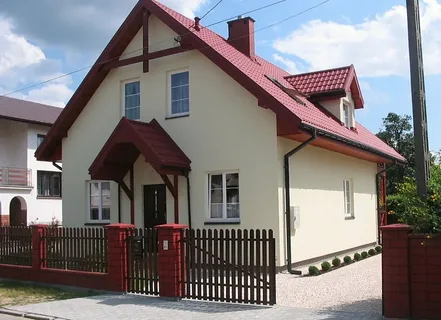private_hause: (56, 21, 387, 261)
